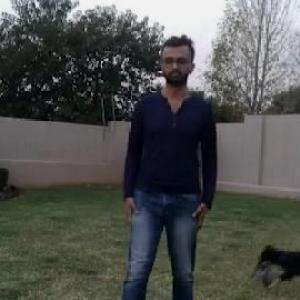follow: (120, 33, 219, 299)
